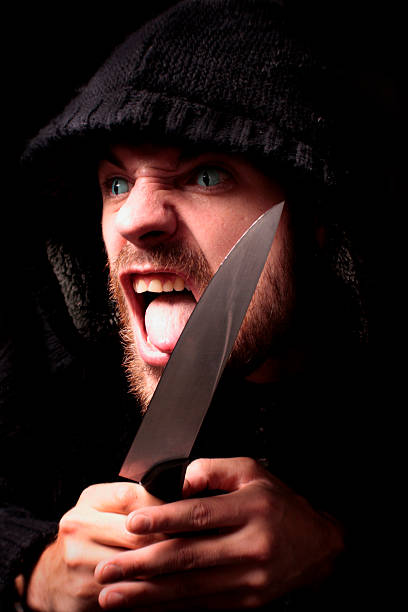knife: (112, 195, 292, 512)
